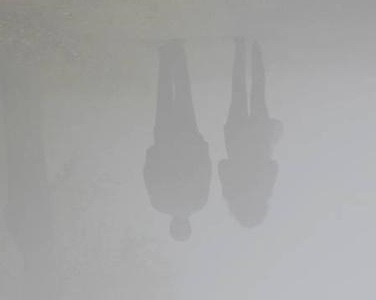person: (138, 38, 214, 241), (215, 34, 285, 230)
